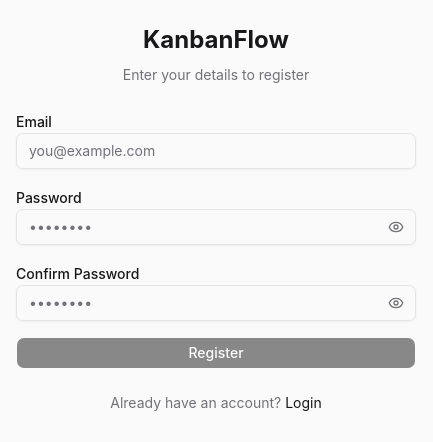
Test case: RegisterForm › shows validation error for weak password on submit
This screenshot has width=433, height=442.
Type "test@example.com" into the field labelled "Email" at (216, 150), box [16,132,416,168]
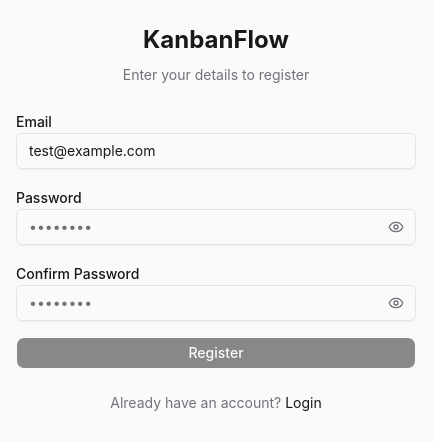
Type "short" into the password field labelled "Password" at (216, 226), box [16,208,416,244]
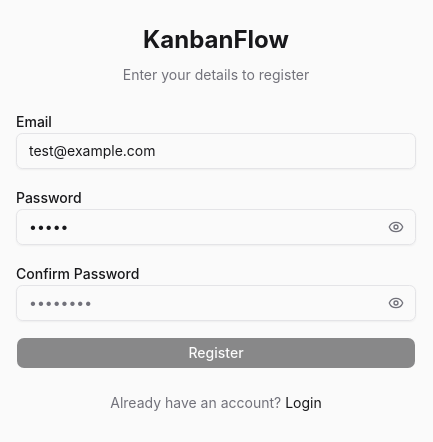
Type "short" into the password field labelled "Confirm Password" at (216, 302), box [16,284,416,320]
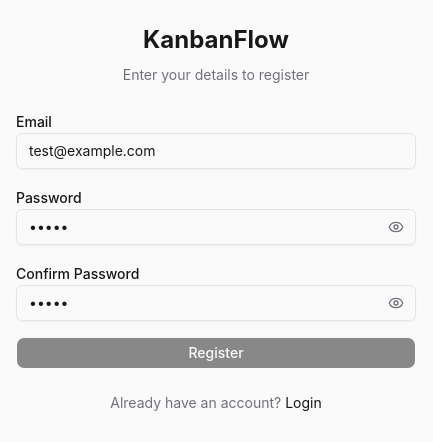
Submit the form, box [16,108,416,368]
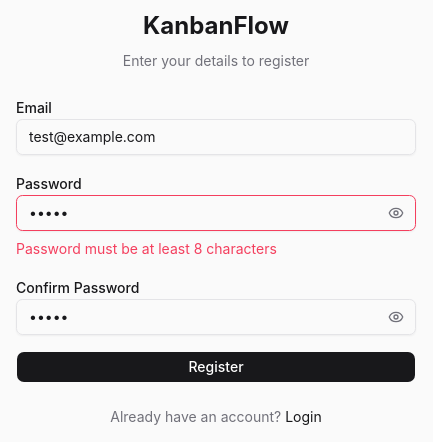
Expected: the text "Password must be at least 8 characters" is shown, [16,240,277,256]
